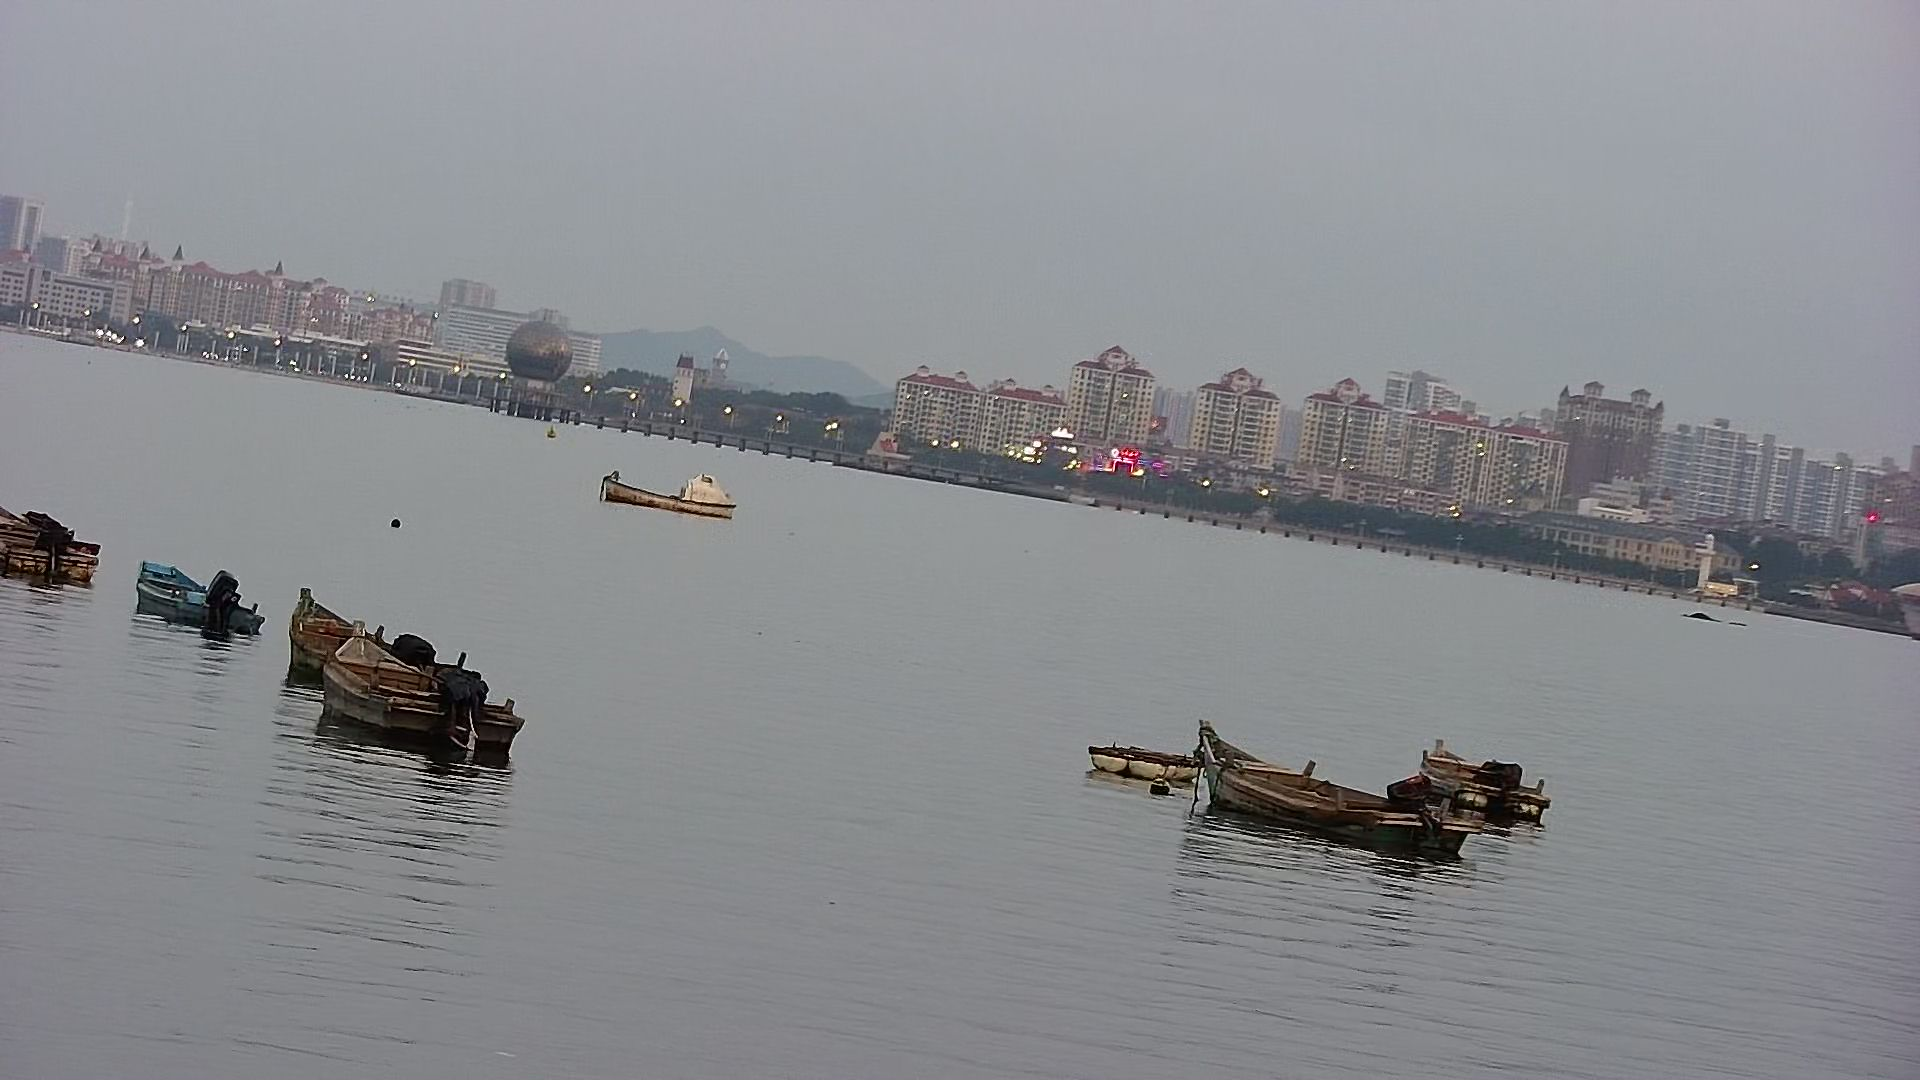boat: (1195, 727, 1461, 876), (314, 644, 526, 779), (1389, 733, 1568, 843), (1047, 703, 1211, 796), (135, 545, 272, 647), (1, 484, 111, 607), (597, 454, 746, 530), (282, 585, 375, 686)
